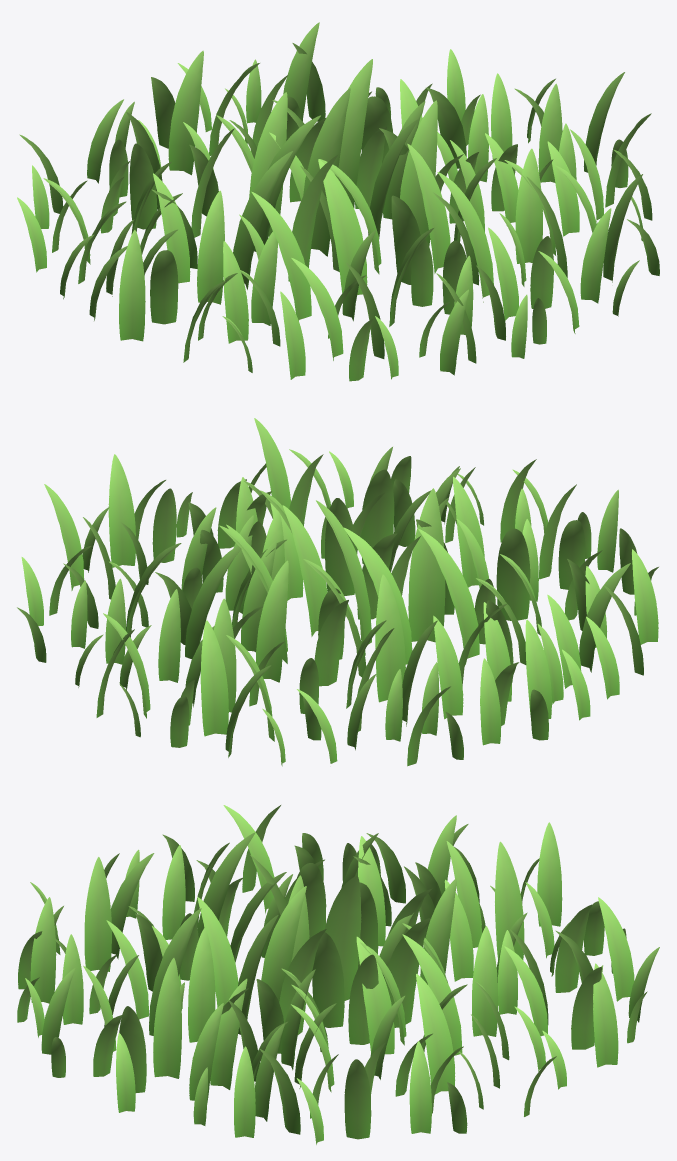
The model's file is SM_Grass01.fbx.
3 views of the same model, one above another, from view 1: azimuth 30°, elevation 25°; view 2: azimuth 150°, elevation 25°; view 3: azimuth 270°, elevation 25° (orthographic).
Visible parts, largest first — view 1: GrassPatch Main.001; view 2: GrassPatch Main.001; view 3: GrassPatch Main.001.
Boxes of the visible parts, left/top/right/bottom form: GrassPatch Main.001: left=17, top=22, right=659, bottom=381; GrassPatch Main.001: left=17, top=418, right=658, bottom=766; GrassPatch Main.001: left=17, top=805, right=659, bottom=1144.
Size of the model in its own units: 4.17 by 4.18 by 1.1.
